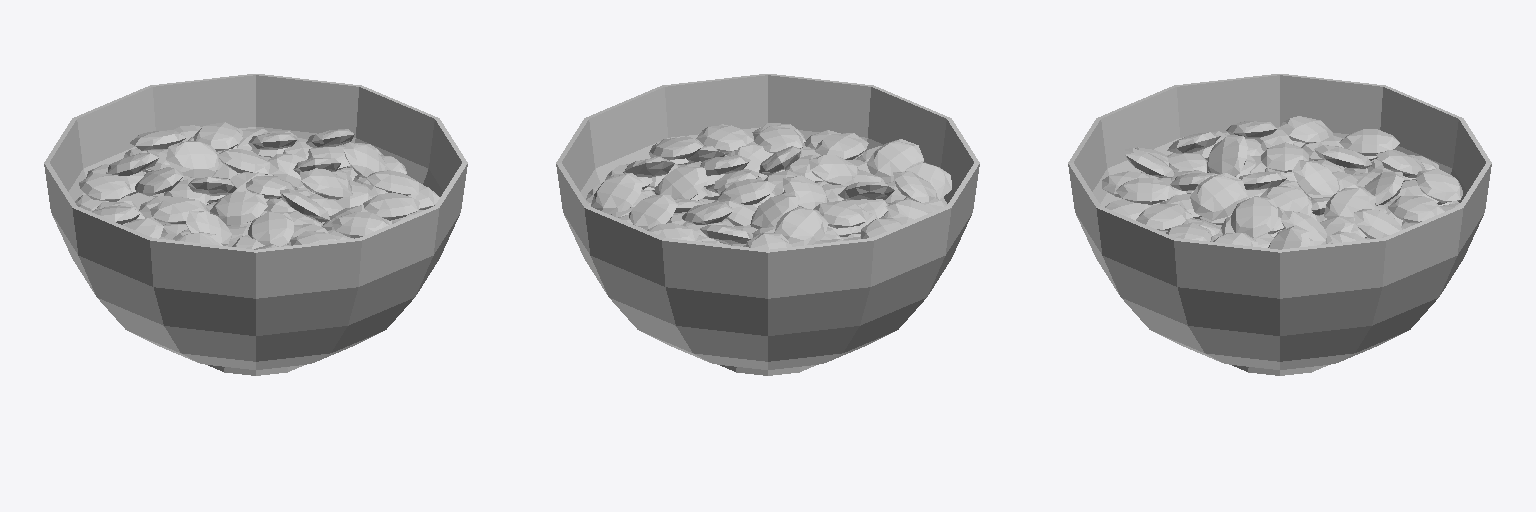
Rendered from bowl of cereal.obj.
The picture shows the model from 3 angles: view 1: azimuth 30°, elevation 25°; view 2: azimuth 150°, elevation 25°; view 3: azimuth 270°, elevation 25°; orthographic projection.
Bounding box in the file's own units: 2.05 × 1 × 2.05.